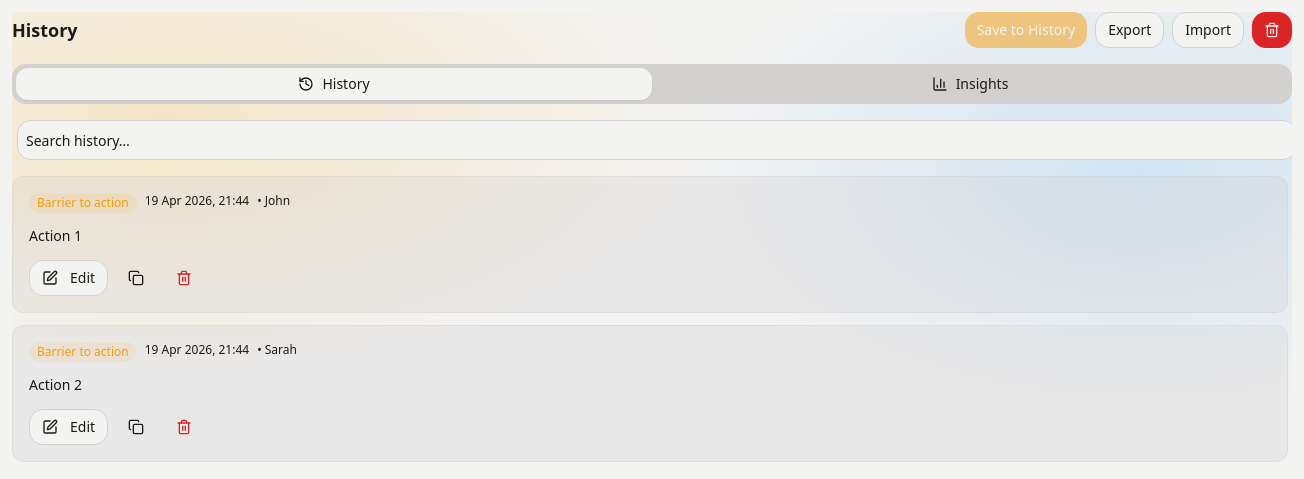
it: HistoryPanel › filters by barrier text
Type "Transport" into the search field with placeholder "Search history…" at point(654, 140), box [17,120,1292,160]
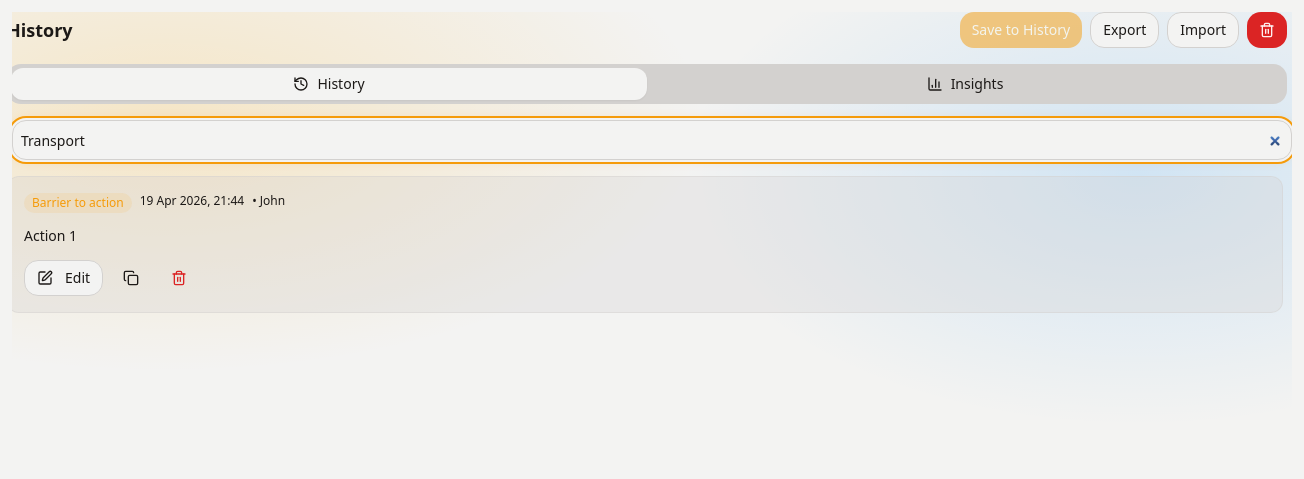
Expected: the text "Action 1" is shown, [24,226,77,245]
Result: the text "Action 2" is gone
